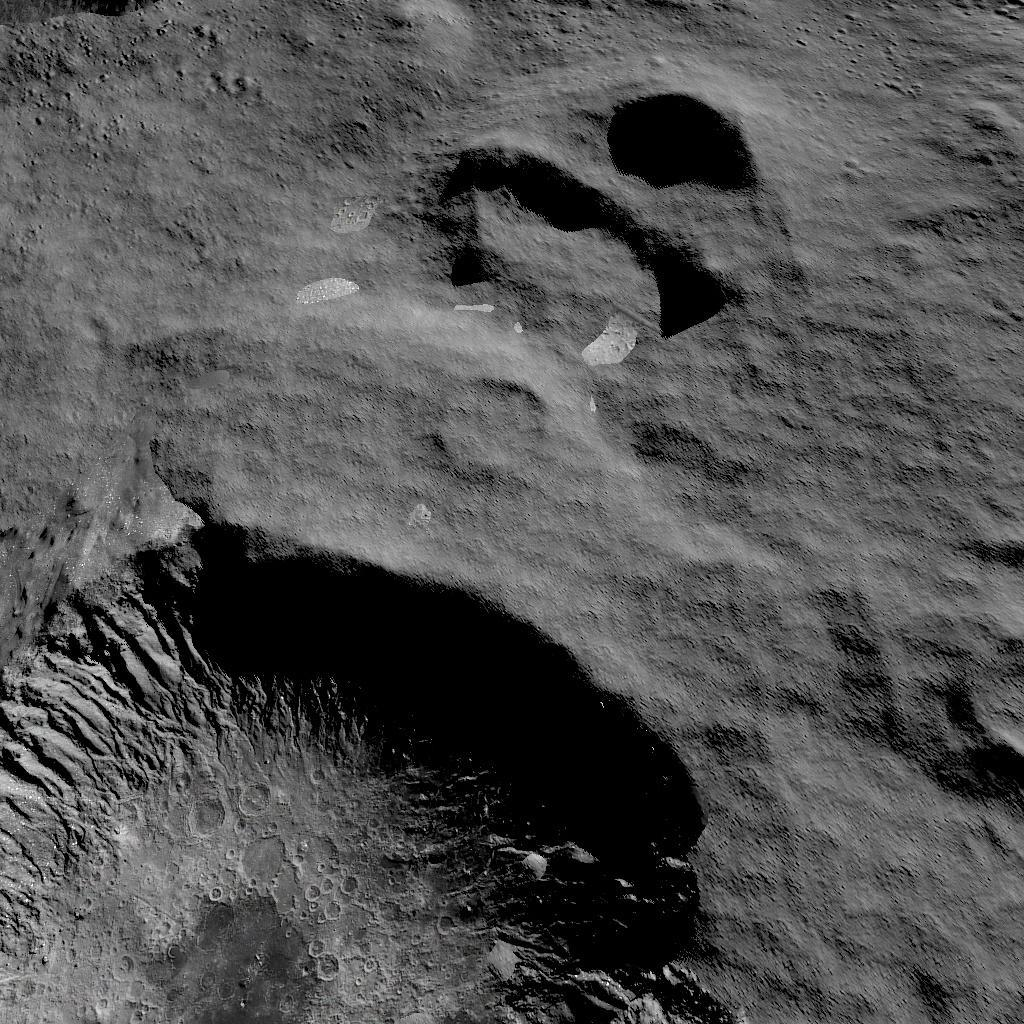Crater: (0, 508, 773, 1024), (404, 64, 780, 340), (423, 362, 560, 490)
Plan surface: (0, 30, 292, 495)
